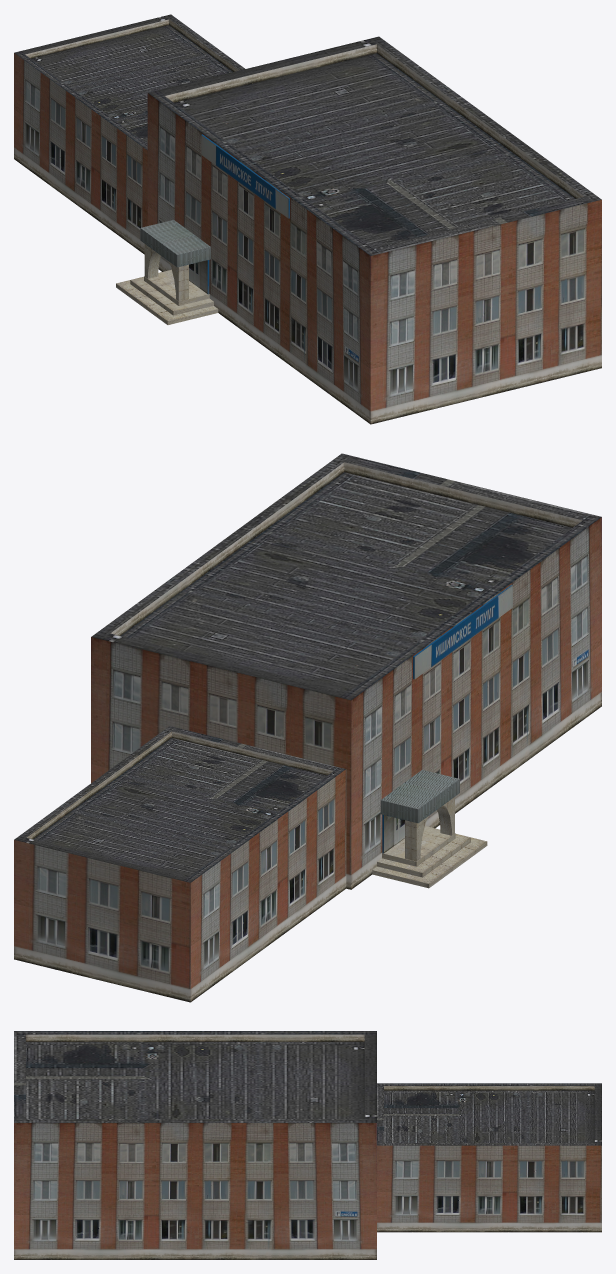
Rendered from r402_ishim_gazprom.FBX.
The picture shows the model from 3 angles, top to bottom: view 1: azimuth 30°, elevation 25°; view 2: azimuth 150°, elevation 25°; view 3: azimuth 270°, elevation 25°; orthographic projection. The views are drawn at different scales.
Visible parts, largest first — view 1: r402_ishim_gazprom; view 2: r402_ishim_gazprom; view 3: r402_ishim_gazprom.
Part boxes in pixels (x1,y1,x2,y2): r402_ishim_gazprom: [14, 14, 601, 424]; r402_ishim_gazprom: [14, 453, 601, 1002]; r402_ishim_gazprom: [14, 1031, 601, 1259].
Size of the model in its own units: 1828 by 4058 by 1044.
